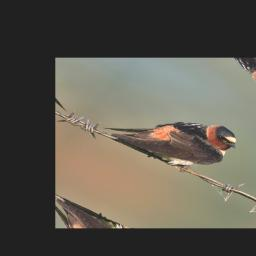Swallow: (96, 86, 247, 184)
